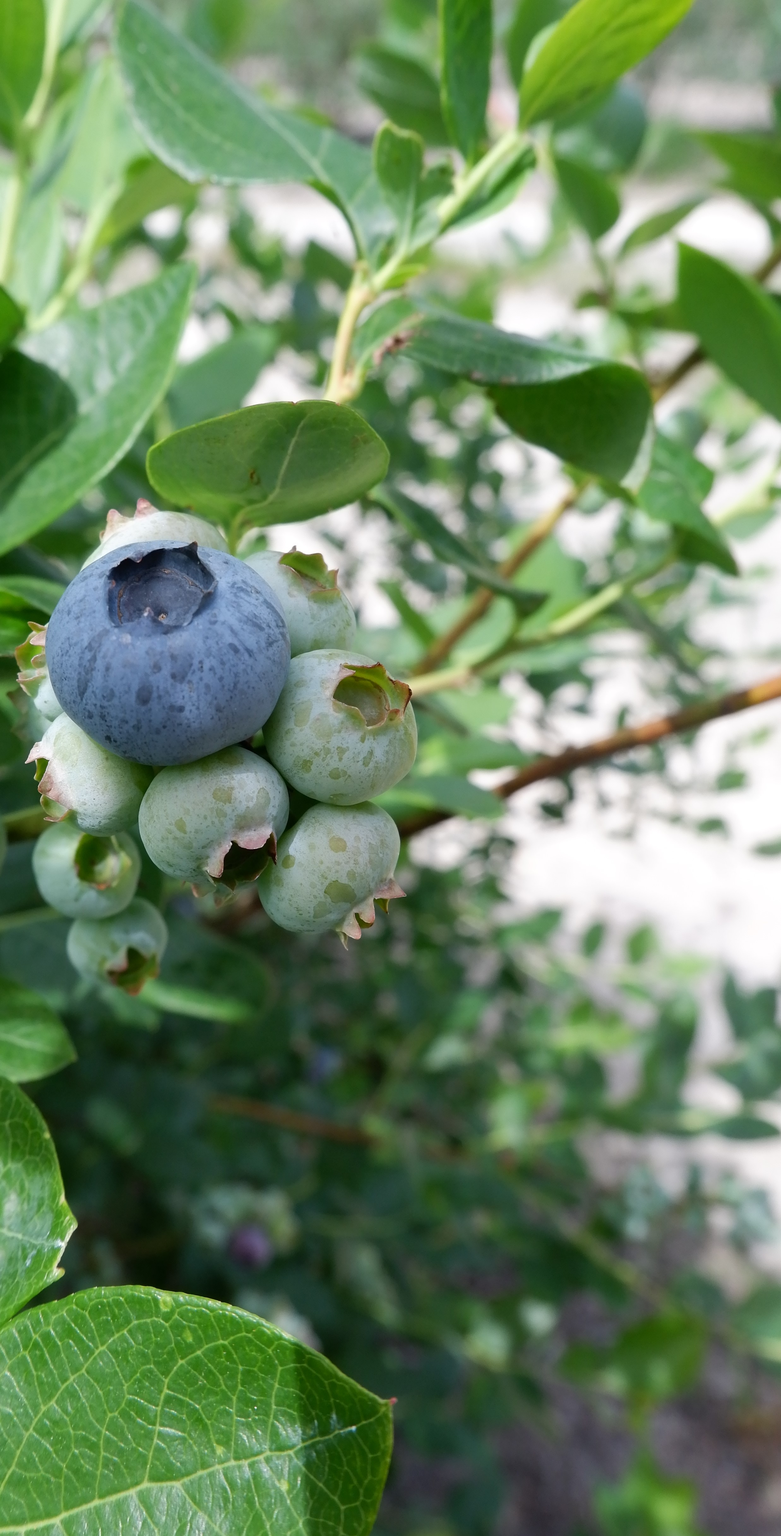Immature: (140, 749, 282, 908), (264, 652, 413, 803), (263, 803, 402, 936), (32, 719, 153, 832), (243, 552, 355, 652), (33, 824, 140, 918), (68, 900, 164, 991), (13, 620, 66, 721), (8, 685, 57, 743)
Mature: (51, 540, 281, 763), (103, 502, 234, 557)
